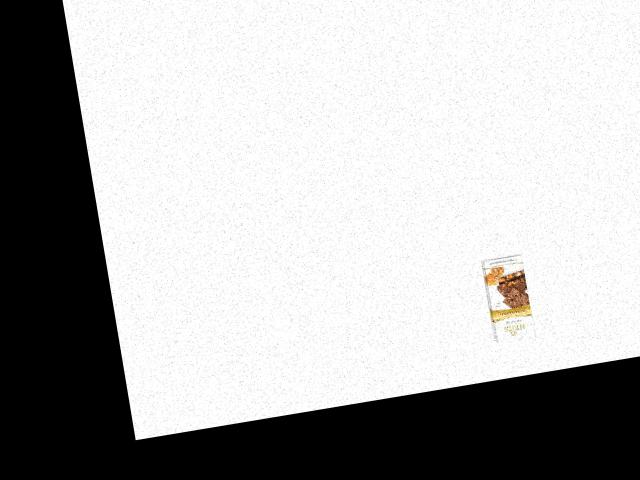chocolate: (478, 251, 537, 347)
